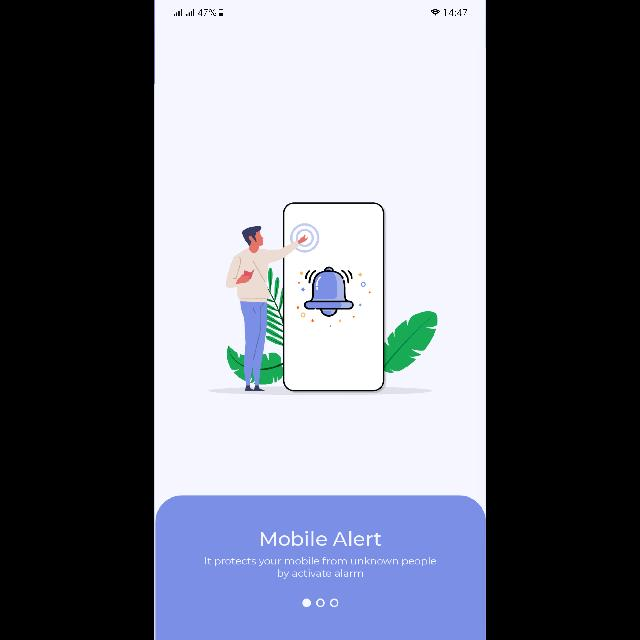image: (208, 202, 438, 396)
pageindicator: (302, 598, 340, 608)
text: (205, 557, 437, 579), (262, 532, 382, 546)
uppertaskbar: (174, 8, 468, 15)
